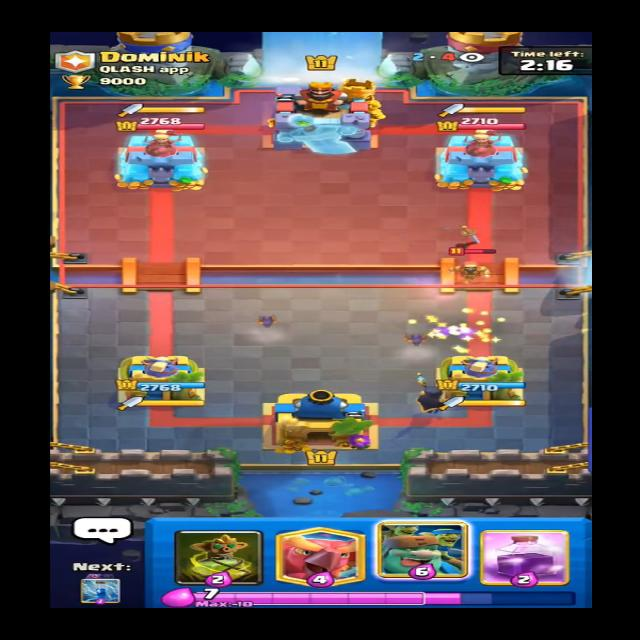Wizard: (447, 244, 496, 285)
